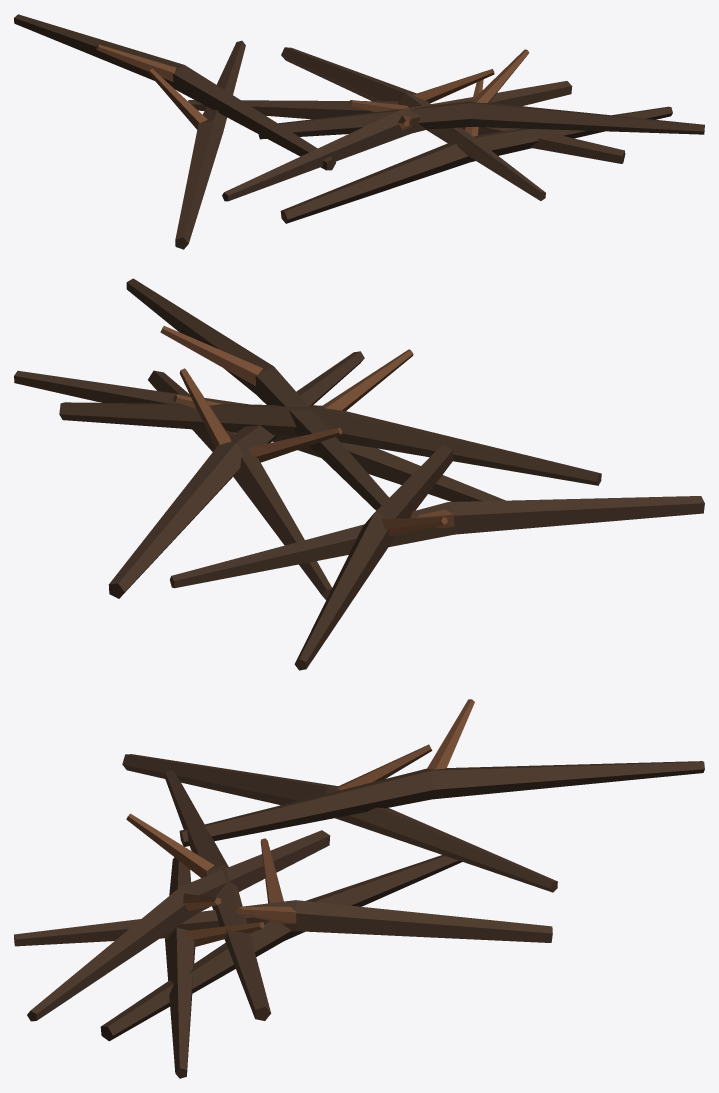
File: Prop_Common_BranchTangle_001.glb
3 renders of one model, top to bottom at view 1: azimuth 30°, elevation 25°; view 2: azimuth 150°, elevation 25°; view 3: azimuth 270°, elevation 25°, orthographic. The views are drawn at different scales.
Parts seen in each view (by area): view 1: Prop_Common_BranchTangle_001; view 2: Prop_Common_BranchTangle_001; view 3: Prop_Common_BranchTangle_001.
Part boxes in pixels (box(x1,y1,x2,y2)): Prop_Common_BranchTangle_001: box(14, 14, 704, 249); Prop_Common_BranchTangle_001: box(14, 278, 704, 670); Prop_Common_BranchTangle_001: box(14, 699, 704, 1078).
Size of the model in its own units: 2.8 by 0.5561 by 2.69.
